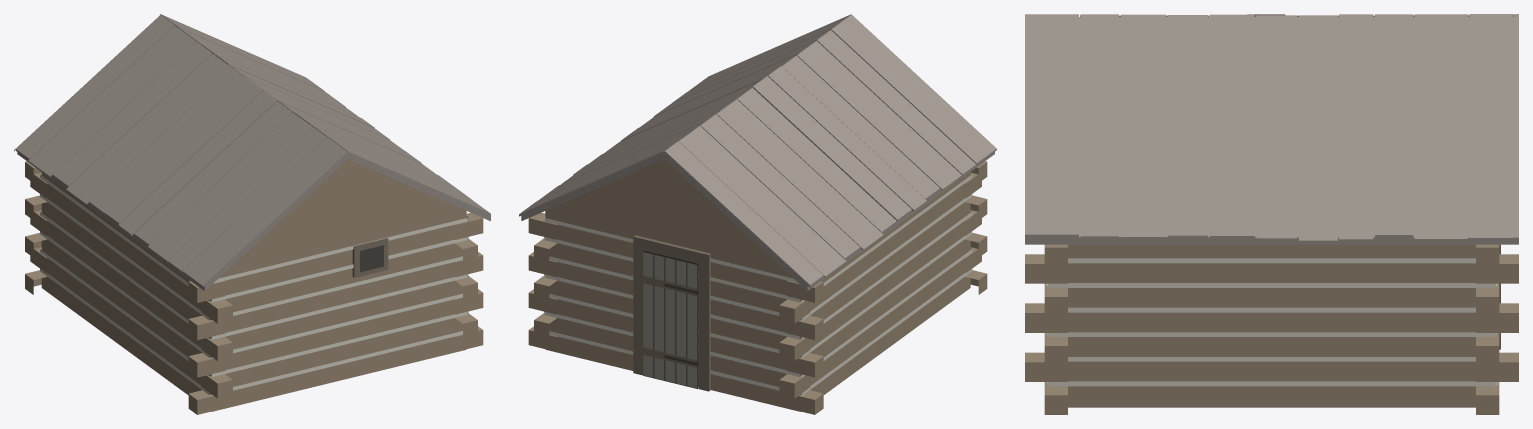
The model's file is kinzie_dairy_1812__kinzie_1804.glb.
3 renders of one model, left to right at view 1: azimuth 30°, elevation 25°; view 2: azimuth 150°, elevation 25°; view 3: azimuth 270°, elevation 25°, orthographic. The views are drawn at different scales.
Visible parts, largest first — view 1: kinzie_dairy_1812__kinzie_1804; view 2: kinzie_dairy_1812__kinzie_1804; view 3: kinzie_dairy_1812__kinzie_1804.
Boxes of the visible parts, left/top/right/bottom form: kinzie_dairy_1812__kinzie_1804: left=14, top=14, right=490, bottom=414; kinzie_dairy_1812__kinzie_1804: left=519, top=14, right=996, bottom=414; kinzie_dairy_1812__kinzie_1804: left=1025, top=14, right=1518, bottom=414.
Size of the model in its own units: 4.59 by 3.53 by 5.08.
